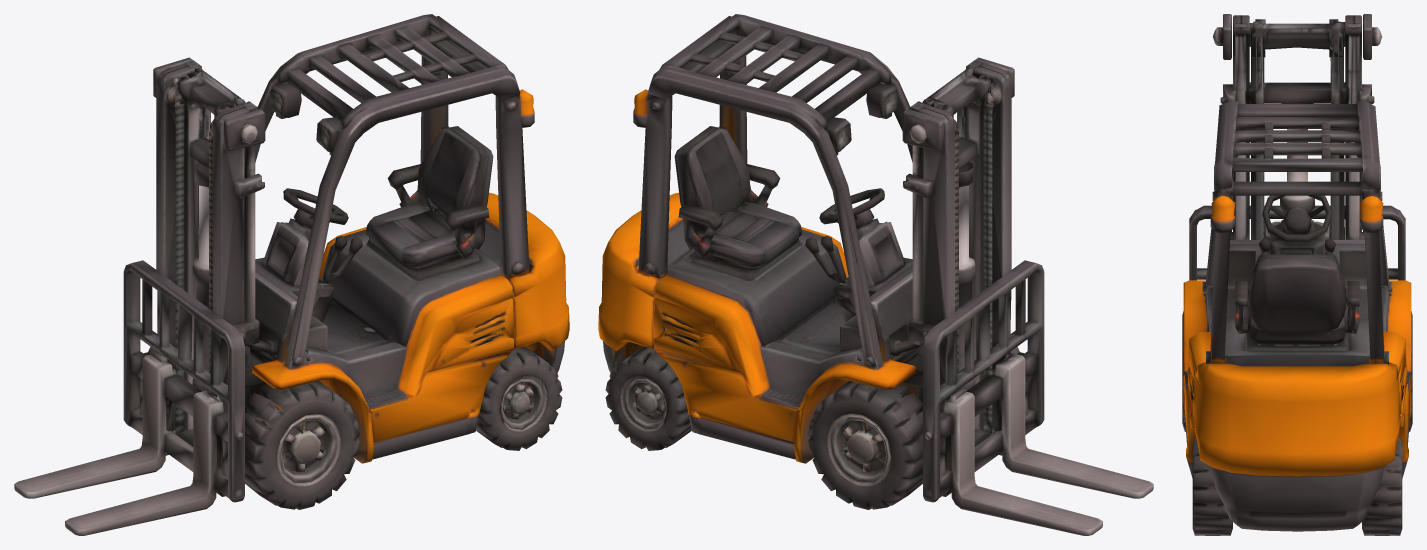
File: forklift.glb
3 views of the same model, side by side, from view 1: azimuth 30°, elevation 25°; view 2: azimuth 150°, elevation 25°; view 3: azimuth 270°, elevation 25° (orthographic).
Visible parts, largest first — view 1: tripo_node_09183c3d-30d1-41a3-b9d8-e3ea02fea18a; view 2: tripo_node_09183c3d-30d1-41a3-b9d8-e3ea02fea18a; view 3: tripo_node_09183c3d-30d1-41a3-b9d8-e3ea02fea18a.
Boxes of the visible parts, x1=… form: tripo_node_09183c3d-30d1-41a3-b9d8-e3ea02fea18a: x1=14, y1=14, x2=569, y2=535; tripo_node_09183c3d-30d1-41a3-b9d8-e3ea02fea18a: x1=598, y1=14, x2=1153, y2=535; tripo_node_09183c3d-30d1-41a3-b9d8-e3ea02fea18a: x1=1182, y1=14, x2=1412, y2=535.
Bounding box in the file's own units: 0.979 × 0.7337 × 0.3927.
Materials: 1 (1 with a texture image).
